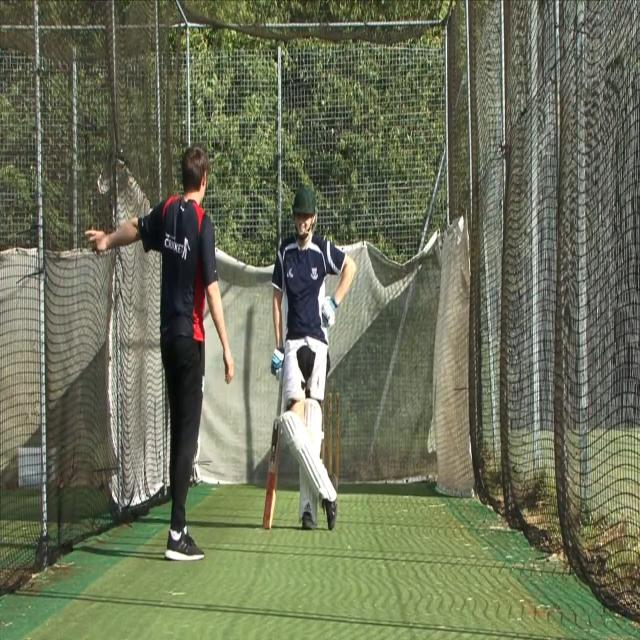batsman: (261, 182, 358, 534)
